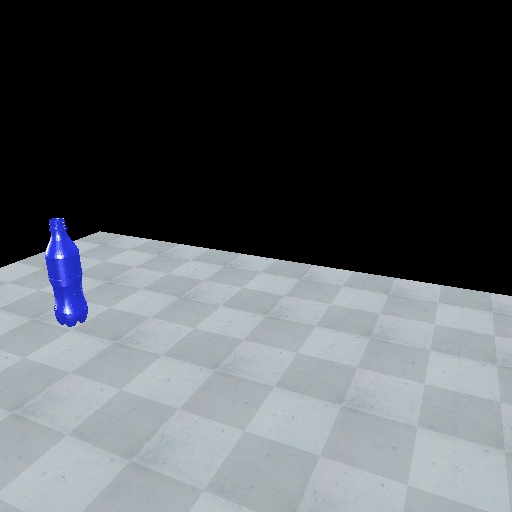bottle: (42, 215, 90, 329)
